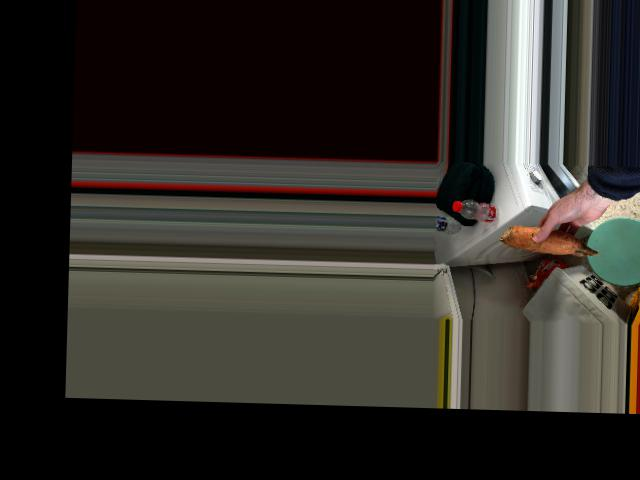sweet_potato: (506, 226, 601, 256)
